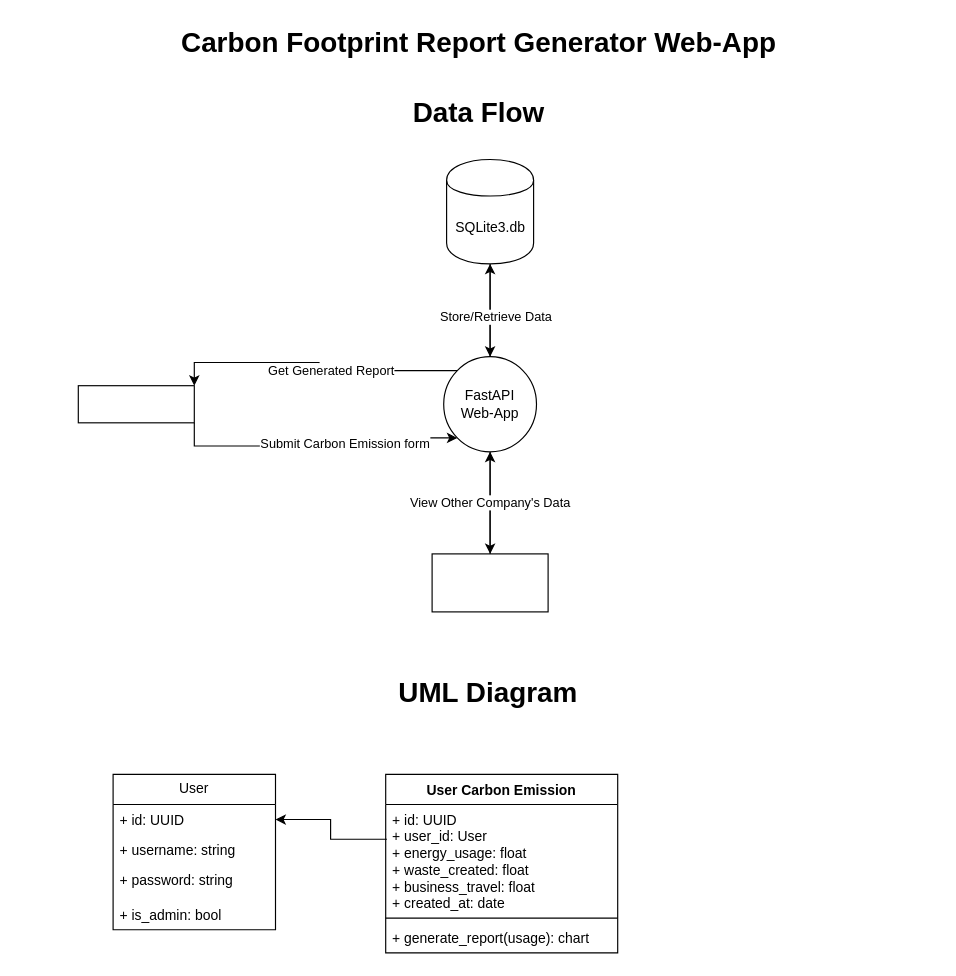
Some shapes in this 956 by 976 pixel diagram are drawn without their labels. The shapes that lost their labels are listed below. From the top down, each one's centre as x and y in pixels, then its label:
point (135, 404): User/Client
point (489, 582): Admin/Company
